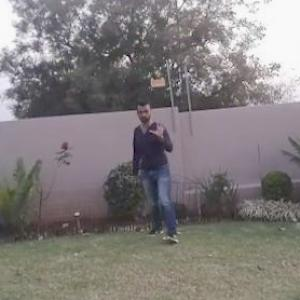follow_hand: (147, 112, 169, 142)
